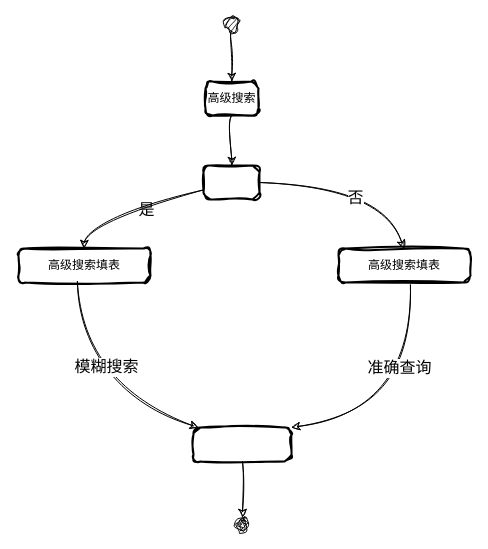
Some shapes in this 488 by 549 pixel diagram are drawn without their labels. The shapes that lost their labels are listed below. From the top down, each one's centre as x and y in pixels, then its label:
At pixel 231 182: "是否模糊查询".
At pixel 242 444: "返回结果".
